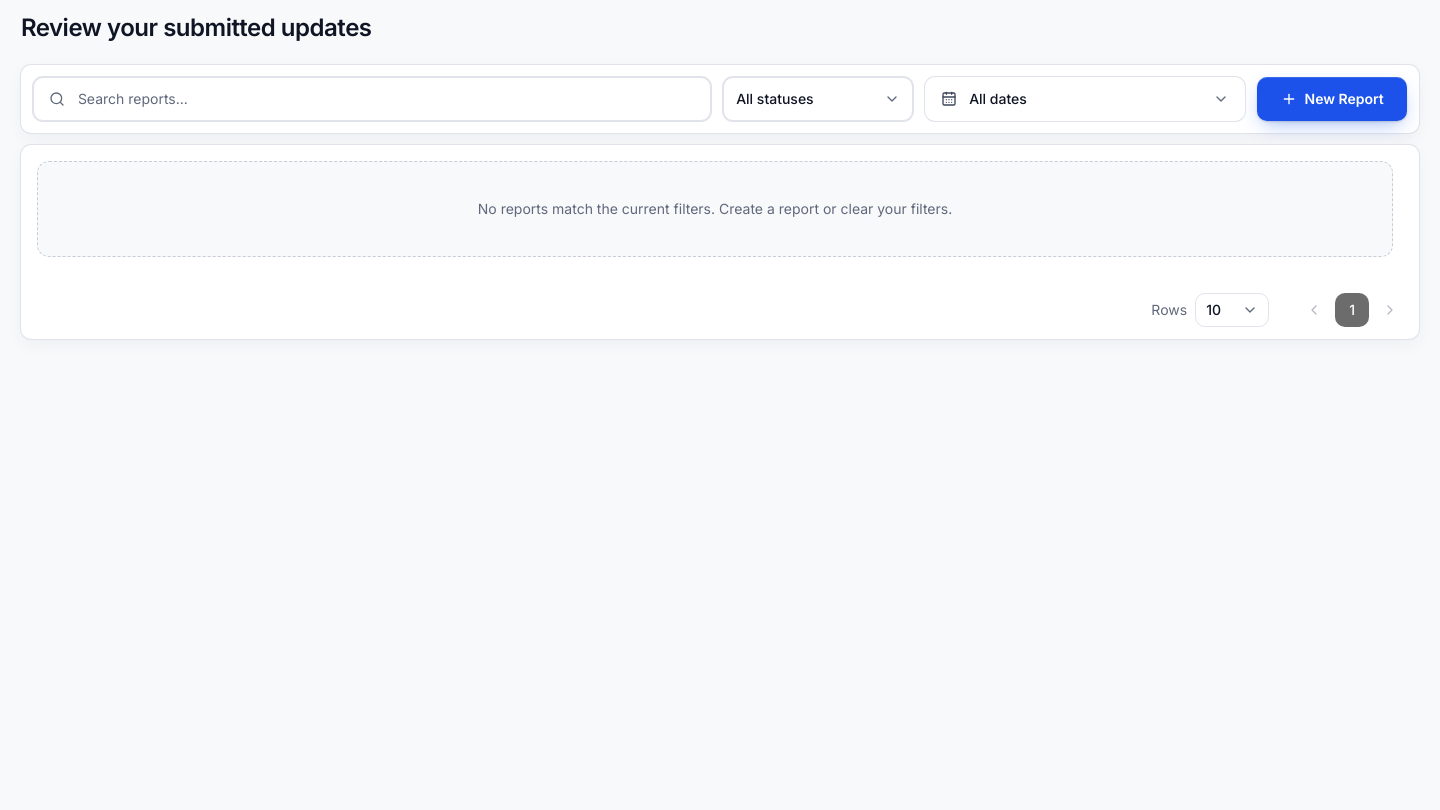
Test: ReportHistory review notes › renders the date range picker outside clipped filter containers
Click the button "All dates": point(998, 98) [925,77,1245,121]
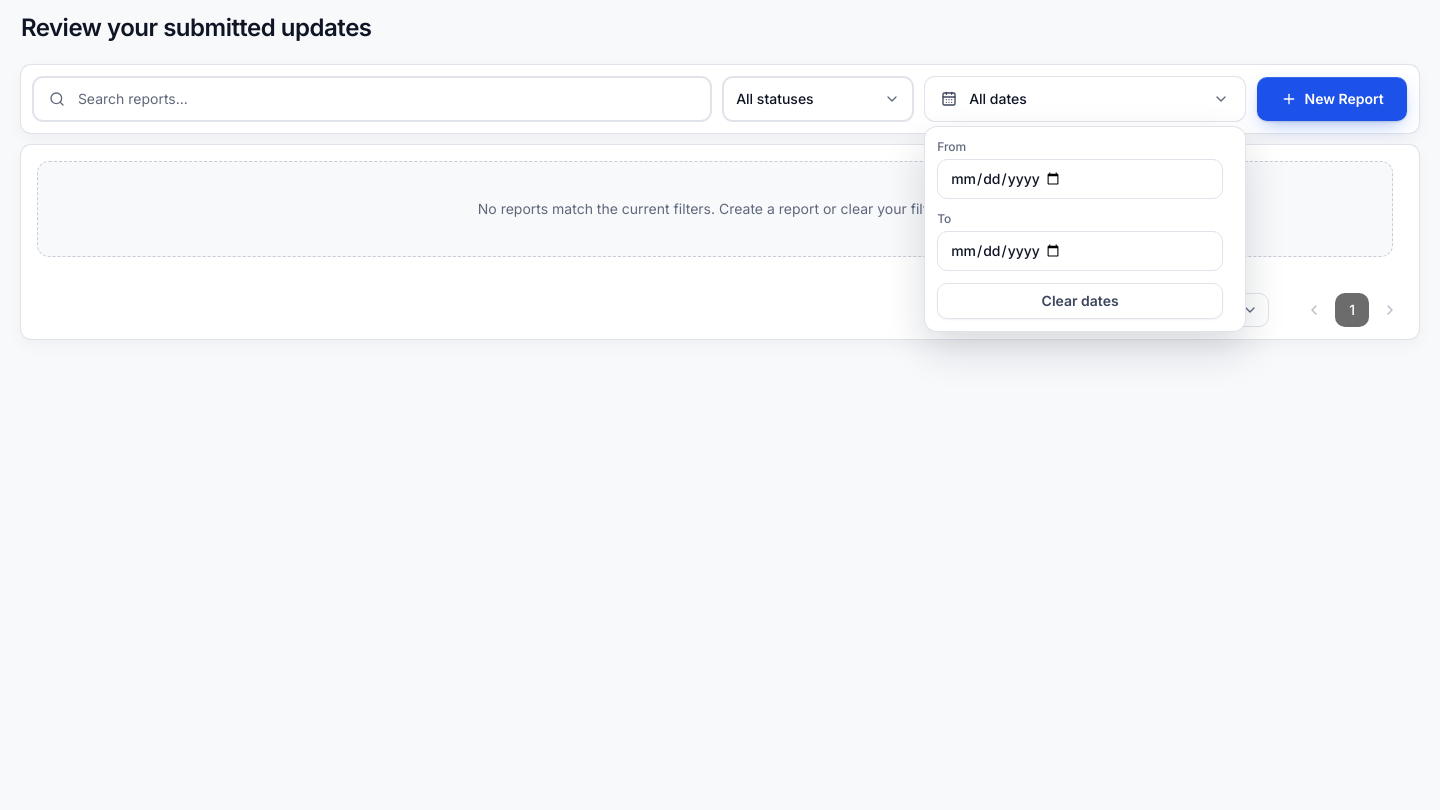
Result: the date field labelled "From" is shown at [937,159,1223,199]
Result: the date field labelled "To" is shown at [937,231,1223,271]
